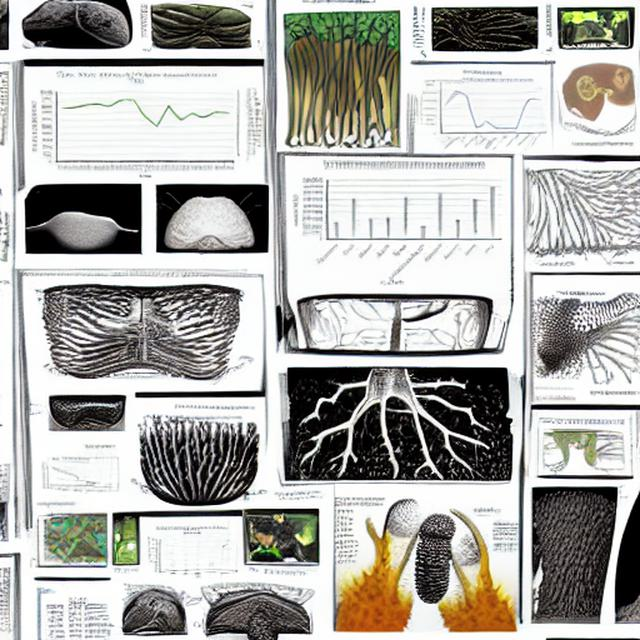Graph: (291, 158, 506, 286), (27, 69, 237, 182), (416, 76, 545, 153), (144, 524, 241, 581), (41, 454, 108, 492)
